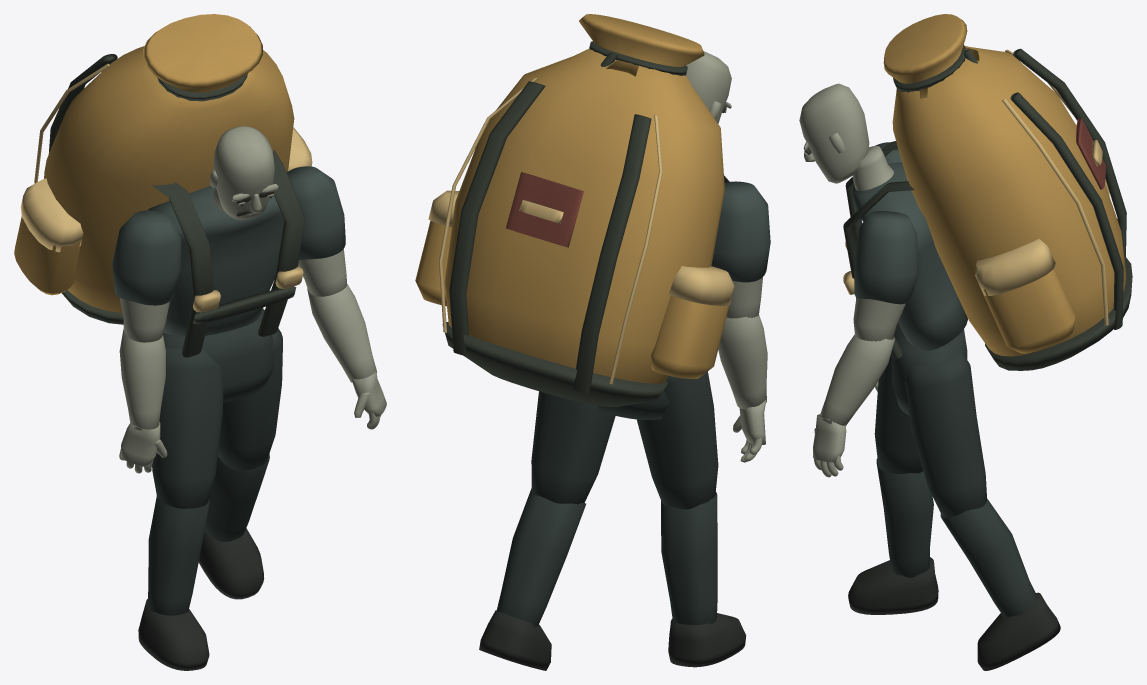
File: enemy-lab-carrier.glb
The picture shows the model from 3 angles, left to right: view 1: azimuth 30°, elevation 25°; view 2: azimuth 150°, elevation 25°; view 3: azimuth 270°, elevation 25°; orthographic projection. The views are drawn at different scales.
Parts seen in each view (by area): view 1: Specimen backpack, Chest, Trouser thigh_L, Gathered sack mouth, Short sleeve_L, Trouser shin_L, Trouser thigh_R, Anatomical head, Waist, Short sleeve_R, Forearm anatomy_R, Forearm anatomy_L (+17 smaller); view 2: Specimen backpack, Trouser thigh_L, Trouser thigh_R, Trouser shin_R, Trouser shin_L, Reinforced sack base, Sack compression belt_-1, Sack compression belt_1, Short sleeve_L, Side specimen pouch_-1, Gathered sack mouth, Forearm anatomy_L (+14 smaller); view 3: Specimen backpack, Trouser thigh_R, Chest, Trouser shin_R, Short sleeve_R, Side specimen pouch_1, Anatomical head, Trouser shin_L, Gathered sack mouth, Forearm anatomy_R, Shoe_L, Shoe_R (+13 smaller).
Part boxes in pixels (left/top/right/bottom): Specimen backpack: left=44, top=46, right=294, bottom=312; Chest: left=148, top=185, right=284, bottom=336; Trouser thigh_L: left=152, top=347, right=223, bottom=508; Gathered sack mouth: left=143, top=14, right=262, bottom=105; Short sleeve_L: left=112, top=210, right=181, bottom=305; Trouser shin_L: left=147, top=496, right=209, bottom=615; Trouser thigh_R: left=218, top=328, right=282, bottom=471; Anatomical head: left=213, top=126, right=274, bottom=220; Waist: left=163, top=309, right=274, bottom=402; Short sleeve_R: left=287, top=166, right=345, bottom=259; Forearm anatomy_R: left=307, top=284, right=376, bottom=382; Forearm anatomy_L: left=119, top=329, right=165, bottom=430; Specimen backpack: left=444, top=48, right=724, bottom=383; Trouser thigh_L: left=636, top=371, right=718, bottom=509; Trouser thigh_R: left=531, top=391, right=615, bottom=504; Trouser shin_R: left=496, top=488, right=585, bottom=626; Trouser shin_L: left=661, top=492, right=717, bottom=625; Reinforced sack base: left=442, top=322, right=667, bottom=407; Sack compression belt_-1: left=573, top=114, right=651, bottom=393; Sack compression belt_1: left=449, top=81, right=545, bottom=356; Short sleeve_L: left=711, top=181, right=770, bottom=282; Side specimen pouch_-1: left=651, top=295, right=729, bottom=378; Gathered sack mouth: left=579, top=14, right=704, bottom=76; Forearm anatomy_L: left=718, top=315, right=767, bottom=409; Specimen backpack: left=892, top=45, right=1126, bottom=356; Trouser thigh_R: left=904, top=351, right=986, bottom=517; Chest: left=853, top=162, right=967, bottom=350; Trouser shin_R: left=940, top=498, right=1037, bottom=617; Short sleeve_R: left=854, top=211, right=918, bottom=304; Side specimen pouch_1: left=980, top=268, right=1075, bottom=353; Anatomical head: left=799, top=83, right=869, bottom=183; Trouser shin_L: left=876, top=458, right=933, bottom=577; Gathered sack mouth: left=883, top=14, right=979, bottom=98; Forearm anatomy_R: left=819, top=334, right=894, bottom=425; Shoe_L: left=848, top=557, right=938, bottom=614; Shoe_R: left=977, top=592, right=1060, bottom=670.
Size of the model in its own units: 0.864 by 1.84 by 0.9178.
